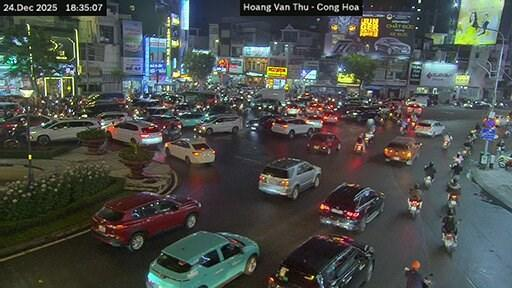motorbike: (0, 127, 19, 148), (442, 233, 455, 252), (408, 198, 419, 217), (496, 153, 511, 166), (364, 130, 374, 144), (422, 273, 432, 287), (447, 193, 457, 207), (423, 175, 431, 188), (354, 143, 364, 153), (461, 145, 470, 156), (441, 139, 450, 148), (496, 144, 503, 153), (400, 126, 406, 135), (403, 266, 409, 270)
